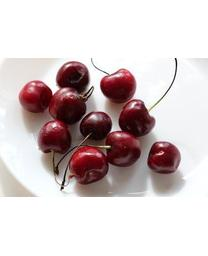cherry: (68, 145, 108, 185), (117, 99, 156, 138), (48, 86, 87, 125), (100, 68, 137, 103), (37, 118, 72, 155), (105, 131, 141, 166), (146, 141, 181, 173), (56, 61, 89, 92), (19, 81, 52, 112), (81, 110, 111, 140)
